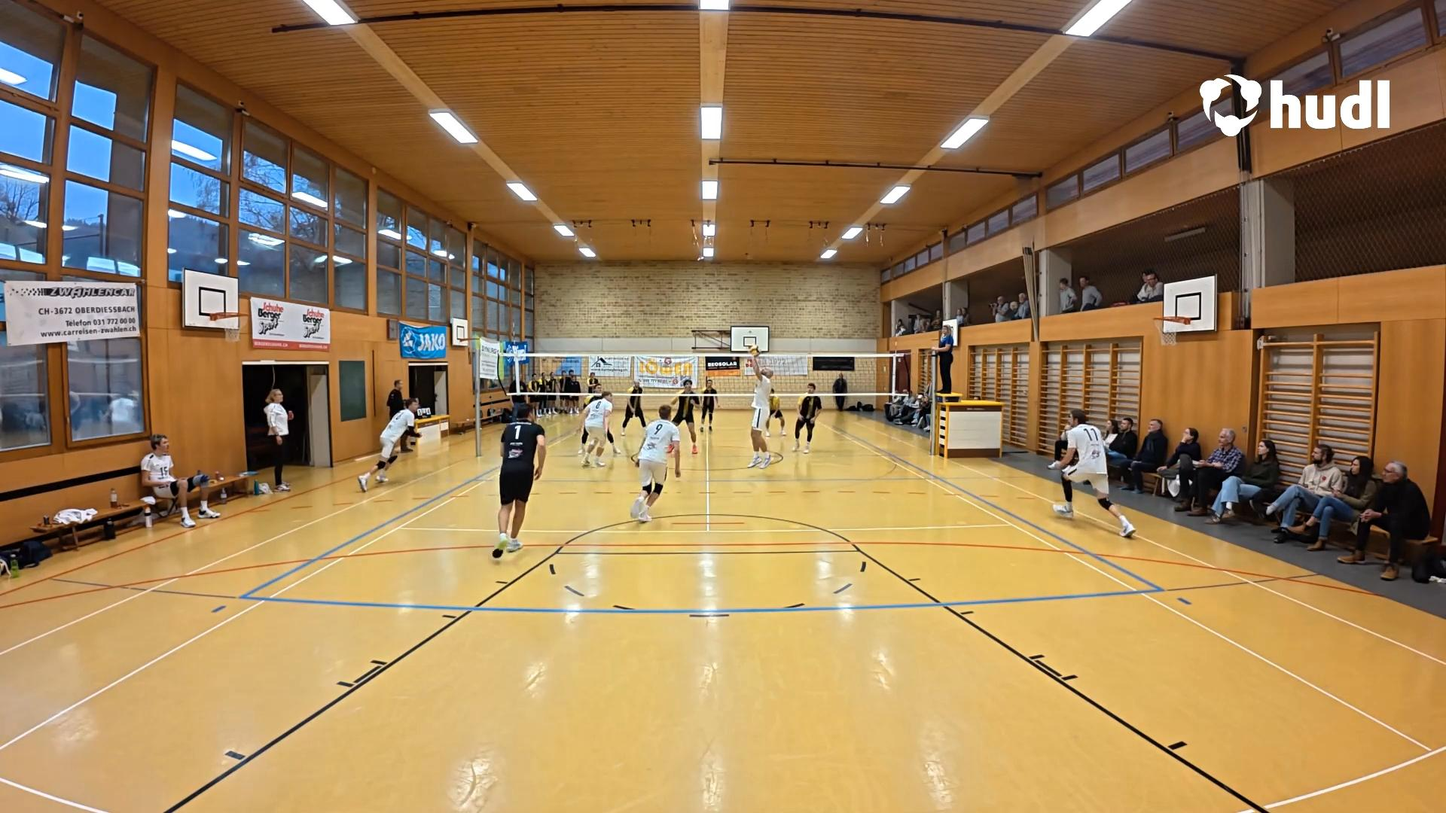alzata: (738, 357, 782, 470)
